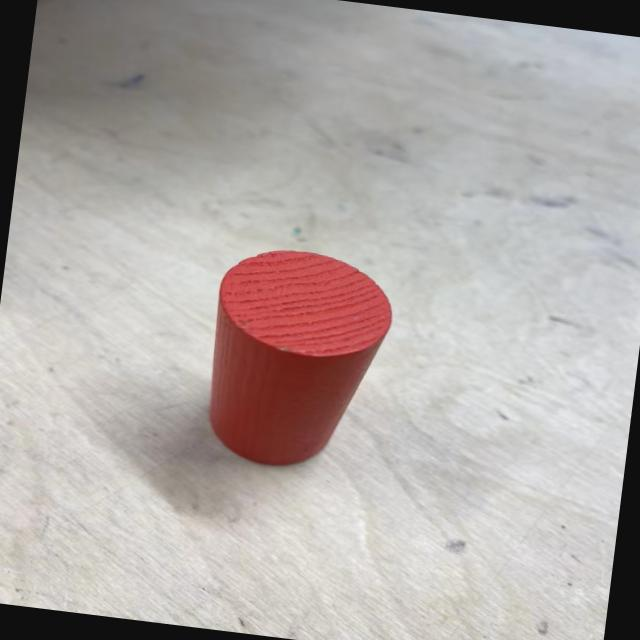red_cylinder: (194, 239, 401, 476)
